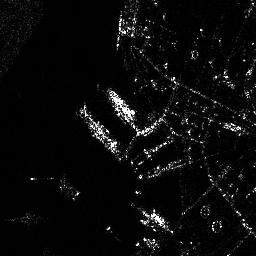ship: (79, 106, 119, 150), (108, 87, 137, 121)
